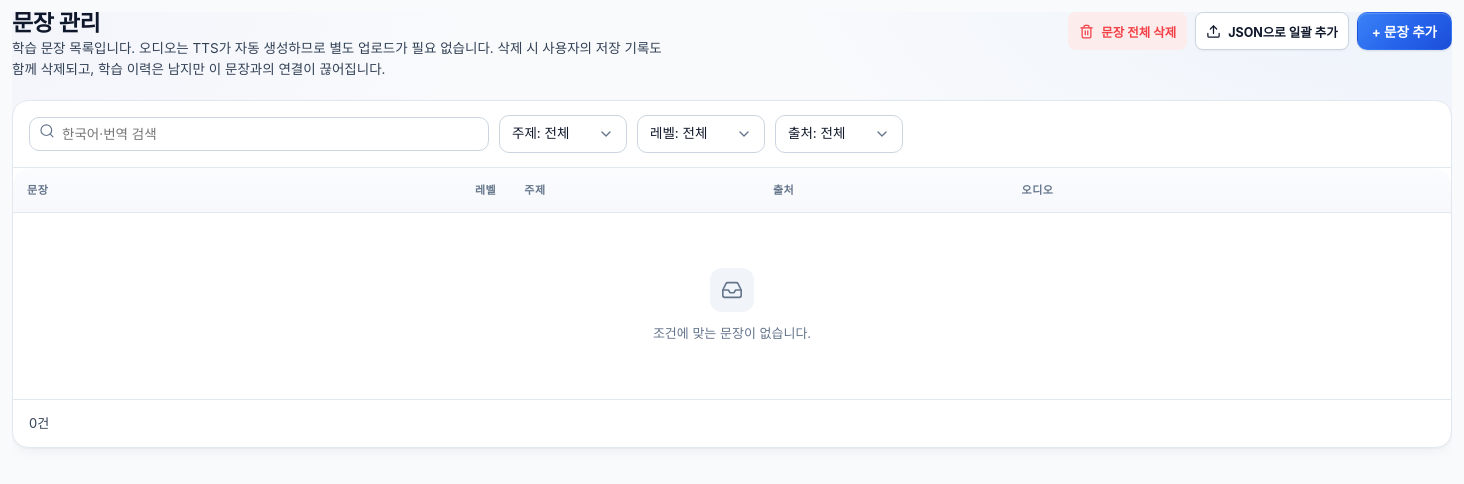
Test case: SentencesPage filters › names a curriculum topic in Korean and filters by its code
This screenshot has width=1464, height=484.
Click the button "주제: 전체" at (563, 134), box left=499, top=115, right=627, bottom=153
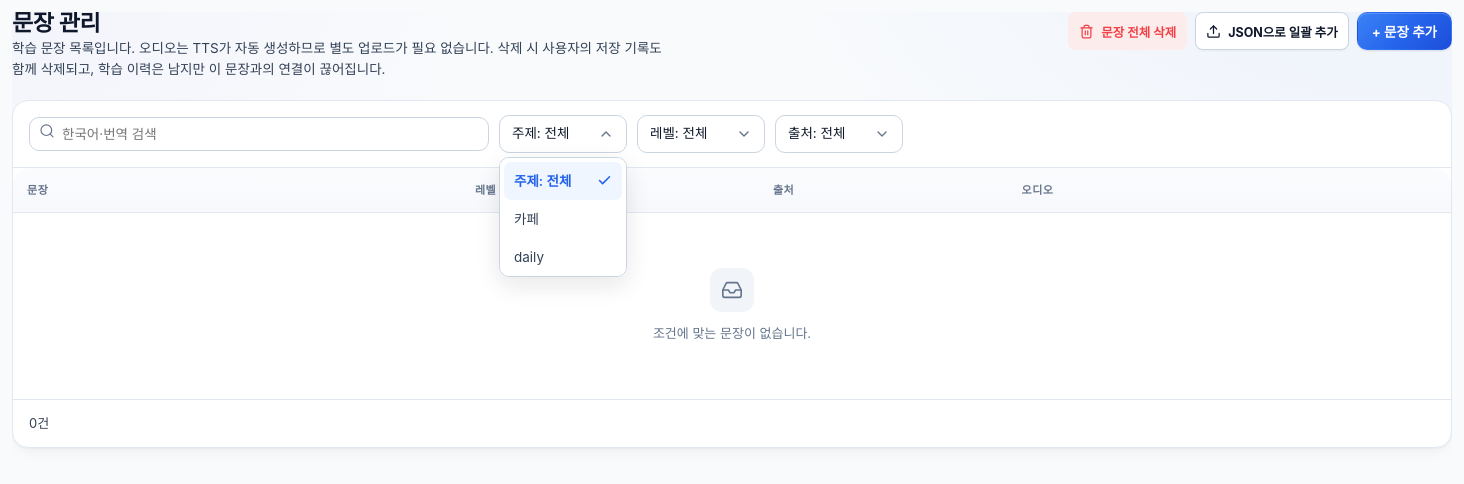
expect the option "daily" is shown: met, box left=514, top=249, right=544, bottom=265
Click the option "카페" at (526, 219), box left=514, top=211, right=539, bottom=227
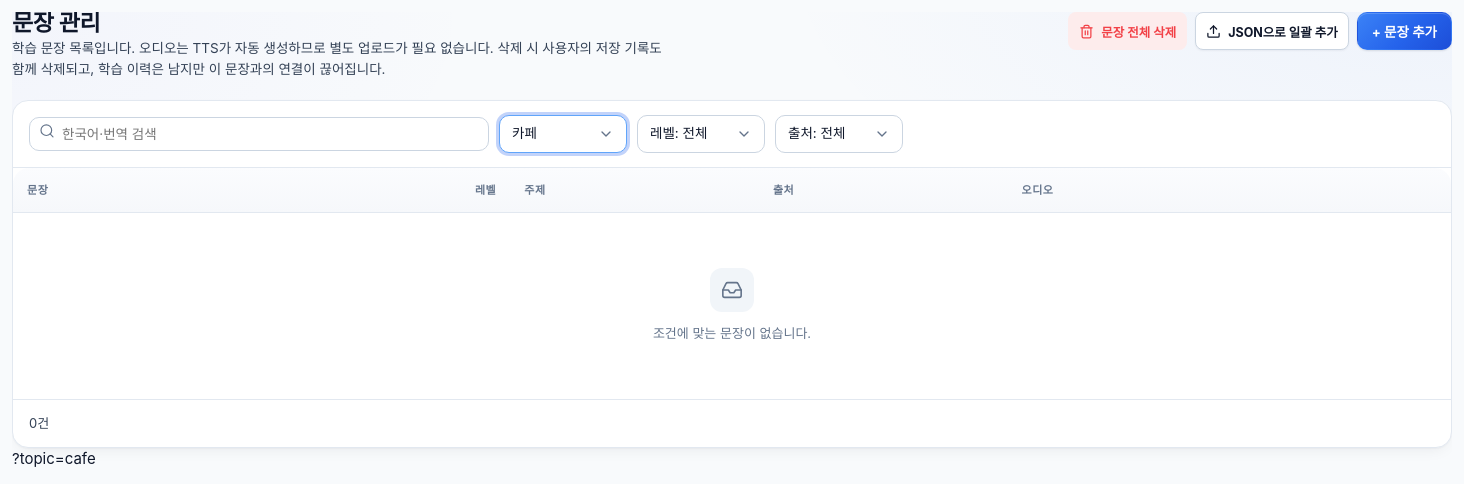
expect the text with test id "loc" shows "topic=cafe": met, box left=12, top=449, right=96, bottom=468
